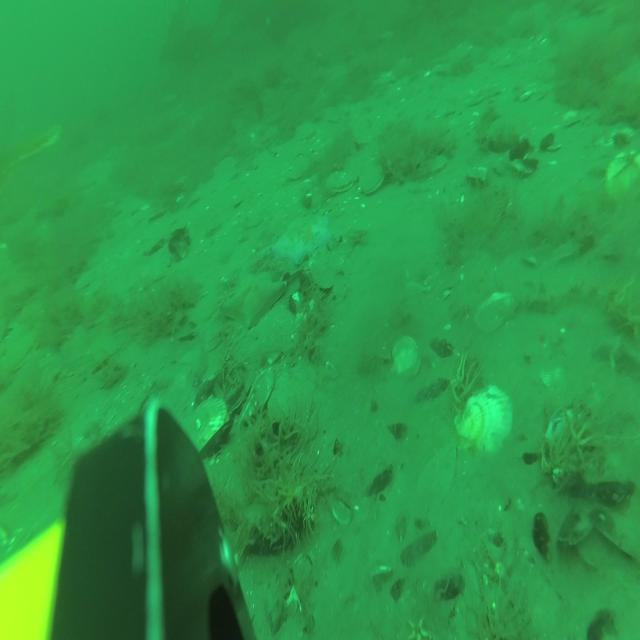scallop: (456, 388, 512, 448), (183, 394, 230, 450), (607, 149, 640, 202), (476, 290, 510, 335), (391, 333, 418, 376), (360, 162, 386, 197), (327, 168, 355, 193)
starfish: (224, 270, 282, 334), (271, 211, 329, 260)
